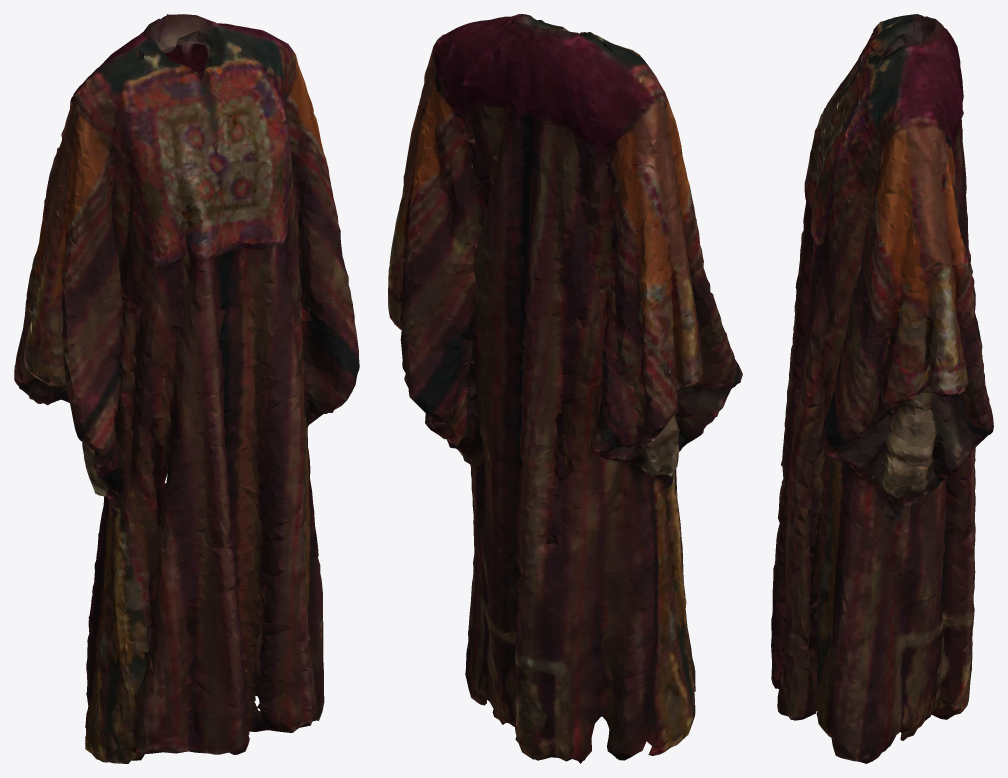
3 views of the same model, side by side, from view 1: azimuth 30°, elevation 25°; view 2: azimuth 150°, elevation 25°; view 3: azimuth 270°, elevation 25° (orthographic). The views are drawn at different scales.
Parts seen in each view (by area): view 1: geometry_0; view 2: geometry_0; view 3: geometry_0.
Boxes of the visible parts, bbox=[...] form: geometry_0: bbox=[14, 14, 359, 763]; geometry_0: bbox=[388, 14, 742, 763]; geometry_0: bbox=[771, 14, 993, 763].
Size of the model in its own units: 0.4383 by 1 by 0.291.
1 material, 1 textured.
